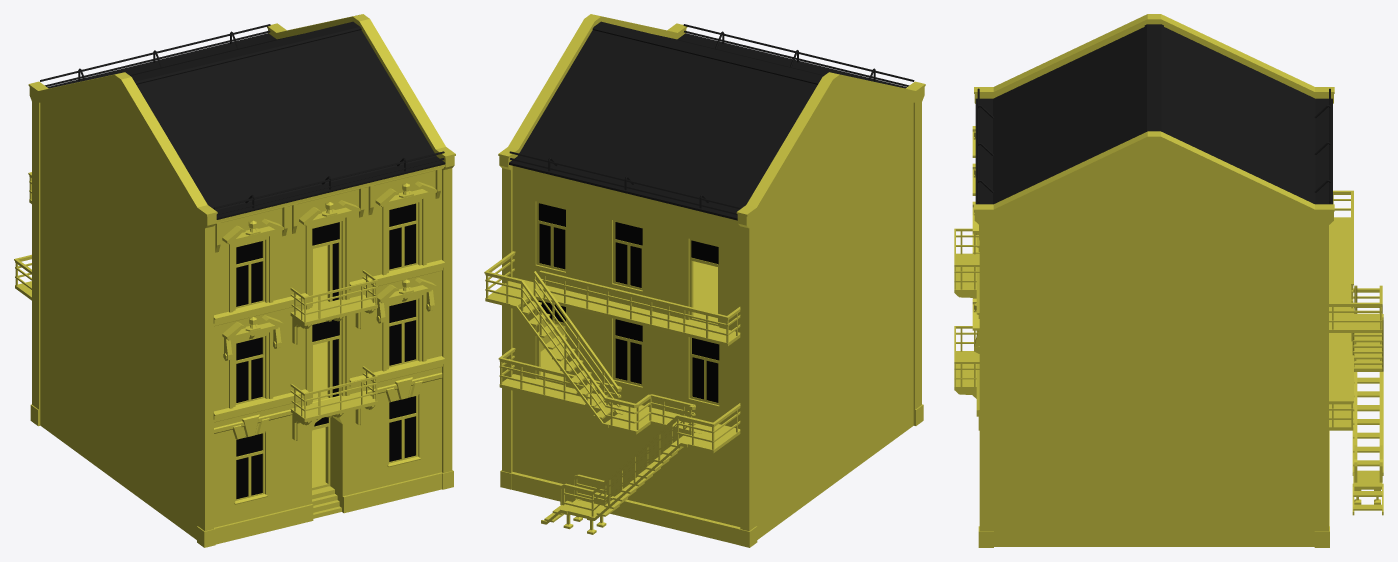
Rendered from SM_first_house_2.fbx.
The picture shows the model from 3 angles, left to right: view 1: azimuth 30°, elevation 25°; view 2: azimuth 150°, elevation 25°; view 3: azimuth 270°, elevation 25°; orthographic projection.
Visible parts, largest first — view 1: Cylinder_25; view 2: Cylinder_25; view 3: Cylinder_25.
Part boxes in pixels (x1=…): Cylinder_25: x1=14, y1=14, x2=455, y2=547; Cylinder_25: x1=484, y1=14, x2=925, y2=547; Cylinder_25: x1=954, y1=14, x2=1383, y2=547.
Size of the model in its own units: 814 by 1271 by 1201.
